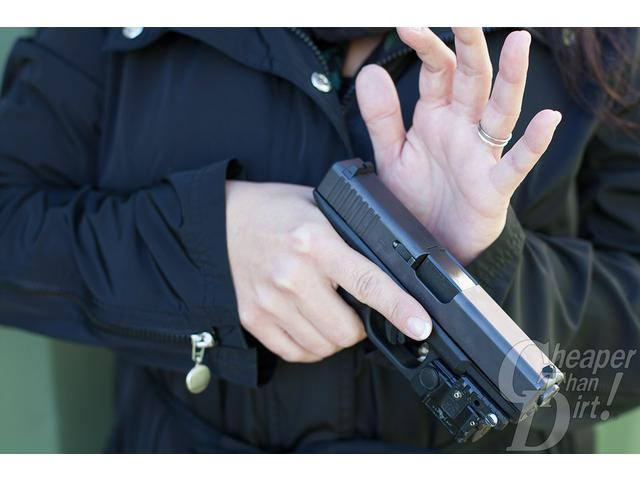pistol: (290, 158, 565, 448)
